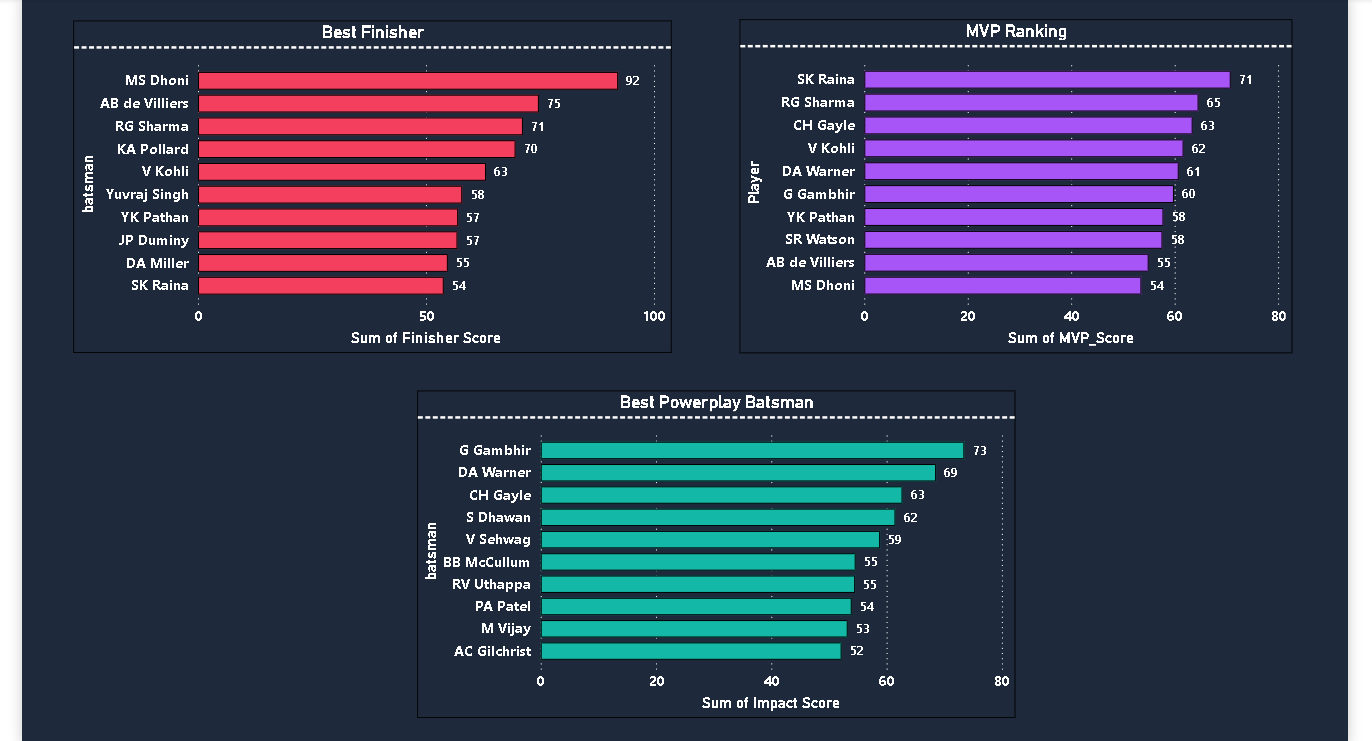

Layout of this report page (visuals, bound fields, positions):
{"tool":"powerbi","page":{"name":"MVP Dashboard","canvas":[1280,720],"ordinal":4},"visuals":[{"type":"barChart","title":"Best Finisher","fields":{"Category":["best_finishers.batsman"],"Y":["Sum(best_finishers.Finisher Score)"]},"box":[49.5,21.7,577.9,320.9],"z":0},{"type":"barChart","title":"MVP Ranking","fields":{"Category":["mvp.Player"],"Y":["Sum(mvp.MVP_Score)"]},"box":[692.5,20.5,533.2,322.1],"z":1000},{"type":"barChart","title":"Best Powerplay Batsman","fields":{"Category":["powerplay_stats.batsman"],"Y":["Sum(powerplay_stats.Impact Score)"]},"box":[381.2,378.8,577.9,316.1],"z":2000}]}

Visuals, with their boxes on the page's 1280x720 design canvas (x1, y1, x2, y2). These are canvas units, not pixel positions in the 1372x741 screenshot, which may show the page scaled, cropped or inside an application window:
"Best Finisher" barChart: (50, 22, 627, 343)
"MVP Ranking" barChart: (692, 20, 1226, 343)
"Best Powerplay Batsman" barChart: (381, 379, 959, 695)
